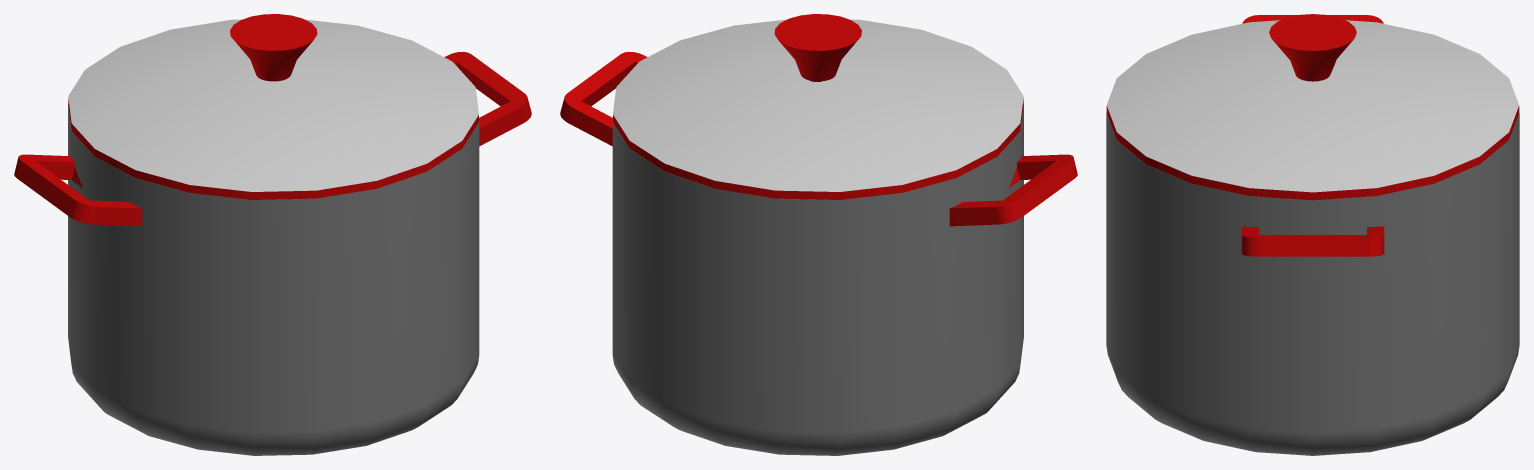
The model's file is pot.fbx.
The picture shows the model from 3 angles, left to right: view 1: azimuth 30°, elevation 25°; view 2: azimuth 150°, elevation 25°; view 3: azimuth 270°, elevation 25°; orthographic projection.
Visible parts, largest first — view 1: pot; view 2: pot; view 3: pot.
Boxes of the visible parts, x1,y1,x2,y2 form: pot: [14, 14, 531, 455]; pot: [560, 14, 1077, 455]; pot: [1106, 14, 1519, 455].
Size of the model in its own units: 157 by 114 by 122.
